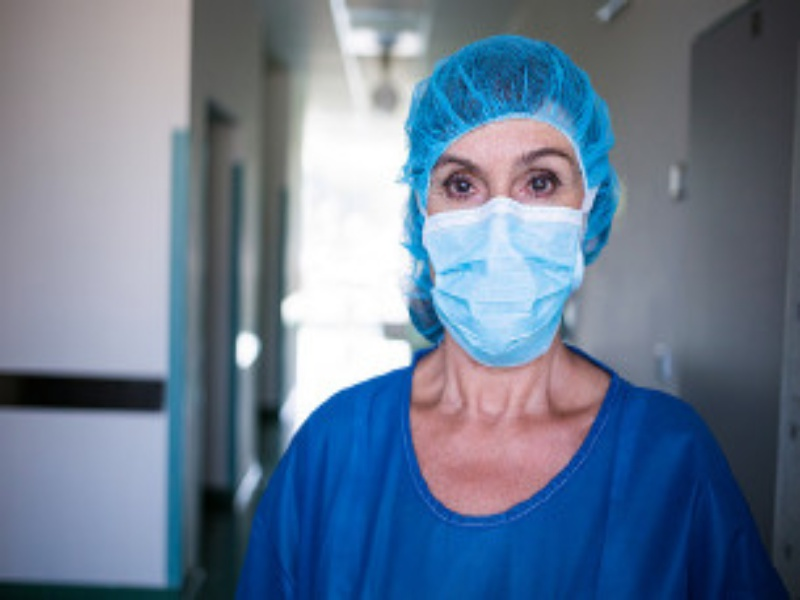mask: (389, 42, 618, 377)
